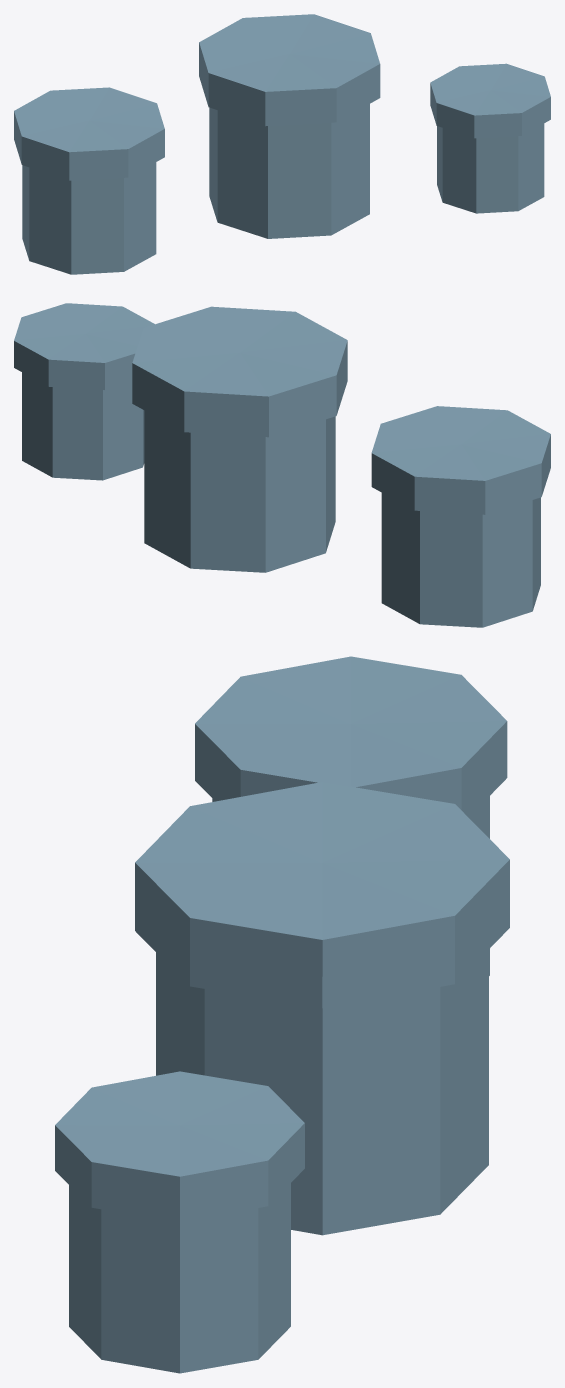
Rendered from Boxes.fbx.
3 views of the same model, one above another, from view 1: azimuth 30°, elevation 25°; view 2: azimuth 150°, elevation 25°; view 3: azimuth 270°, elevation 25° (orthographic). The views are drawn at different scales.
Parts seen in each view (by area): view 1: Boxes; view 2: Boxes; view 3: Boxes.
Boxes of the visible parts, bbox=[...] form: Boxes: bbox=[14, 14, 550, 274]; Boxes: bbox=[14, 303, 550, 627]; Boxes: bbox=[55, 656, 509, 1373].
Size of the model in its own units: 68.71 by 28.19 by 20.91.
